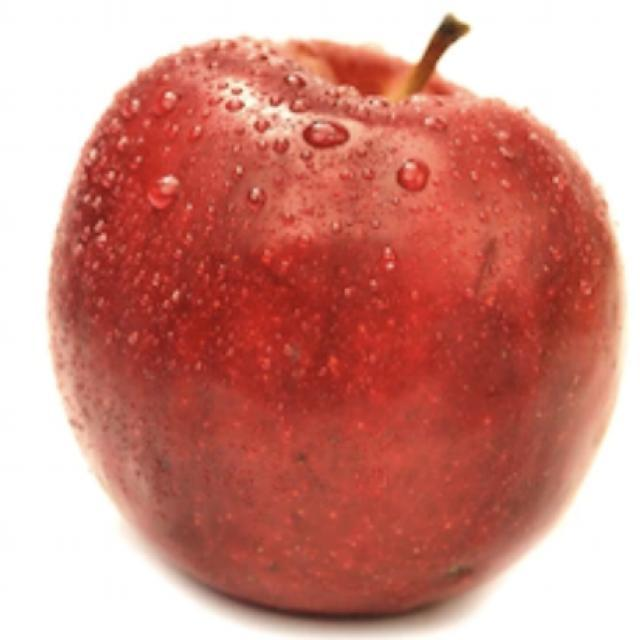Fresh Apple: (67, 45, 610, 612)
